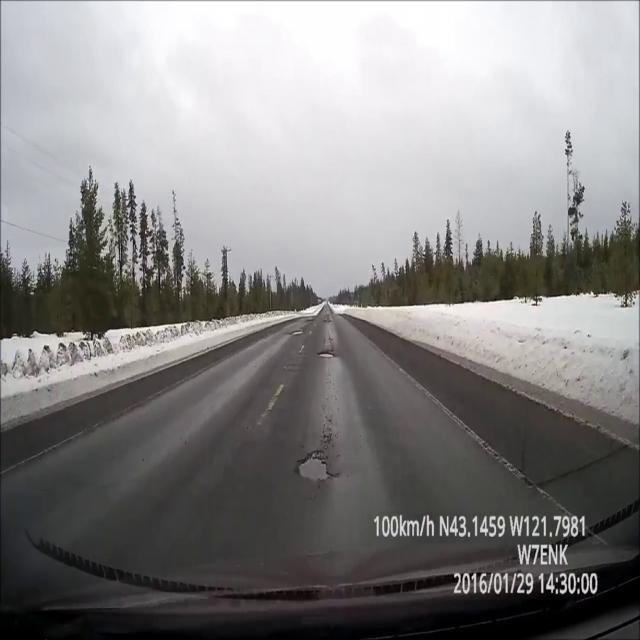buraco: (294, 444, 338, 486), (298, 453, 336, 480), (318, 350, 335, 360), (291, 330, 303, 334), (306, 318, 314, 322), (324, 320, 332, 323)
